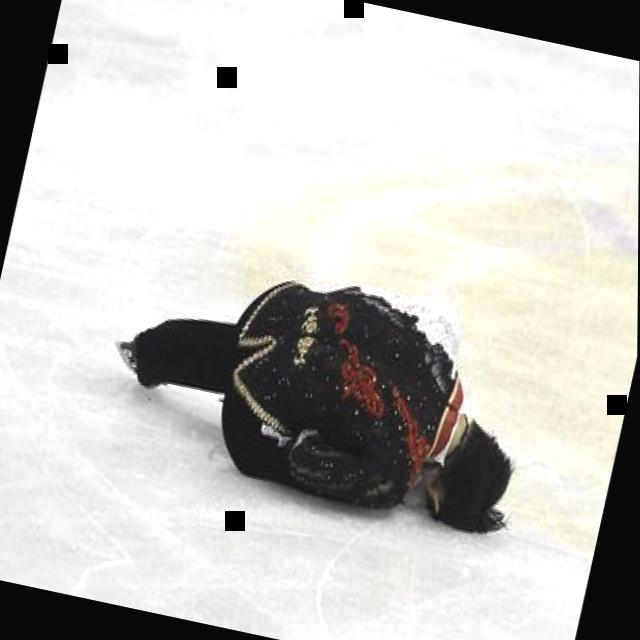Fall-Detected: (78, 202, 569, 554)
